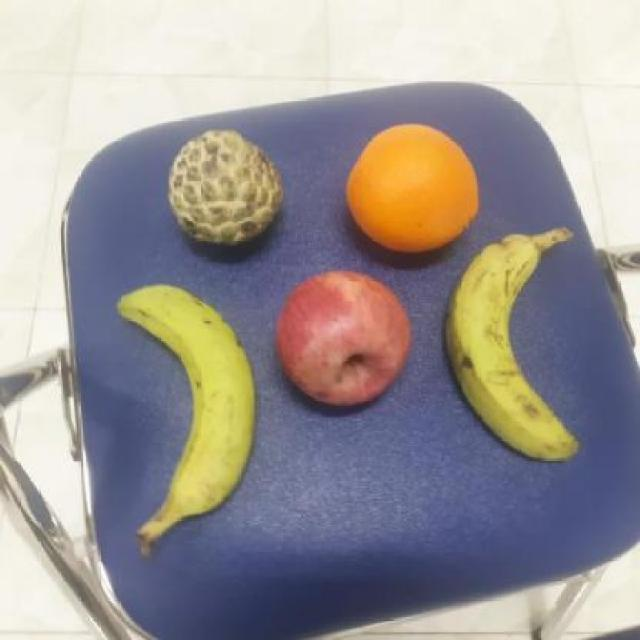apple: (274, 264, 414, 408)
banana: (113, 279, 256, 516), (443, 229, 585, 463)
oren: (342, 121, 483, 253)
sugar apple: (168, 123, 284, 251)
